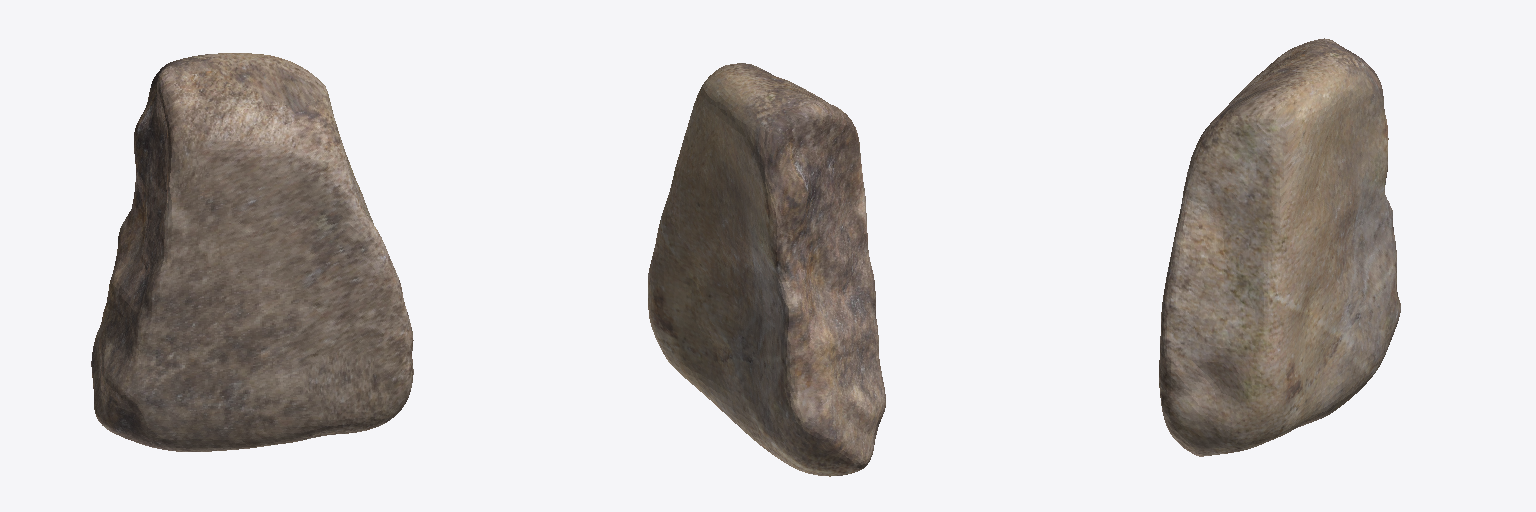
3 renders of one model, left to right at view 1: azimuth 30°, elevation 25°; view 2: azimuth 150°, elevation 25°; view 3: azimuth 270°, elevation 25°, orthographic.
Size of the model in its own units: 36.16 by 50.24 by 29.31.
Materials: 1 (1 with a texture image).